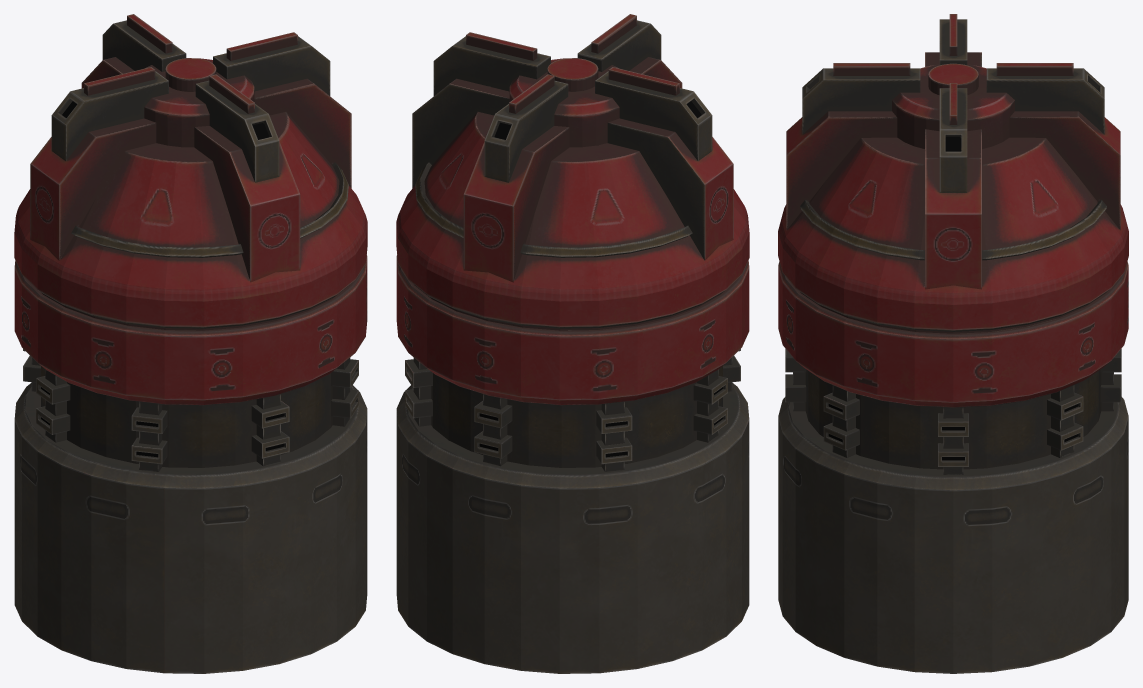
File: storage_container.glb
3 views of the same model, side by side, from view 1: azimuth 30°, elevation 25°; view 2: azimuth 150°, elevation 25°; view 3: azimuth 270°, elevation 25° (orthographic).
Parts seen in each view (by area): view 1: StorageContainer; view 2: StorageContainer; view 3: StorageContainer.
Part boxes in pixels (box(x1,y1,x2,y2)): StorageContainer: box(14, 14, 367, 673); StorageContainer: box(396, 14, 749, 673); StorageContainer: box(778, 14, 1128, 673).
Bounding box in the file's own units: 6.78 × 11.42 × 6.78.
1 material, 1 textured.
